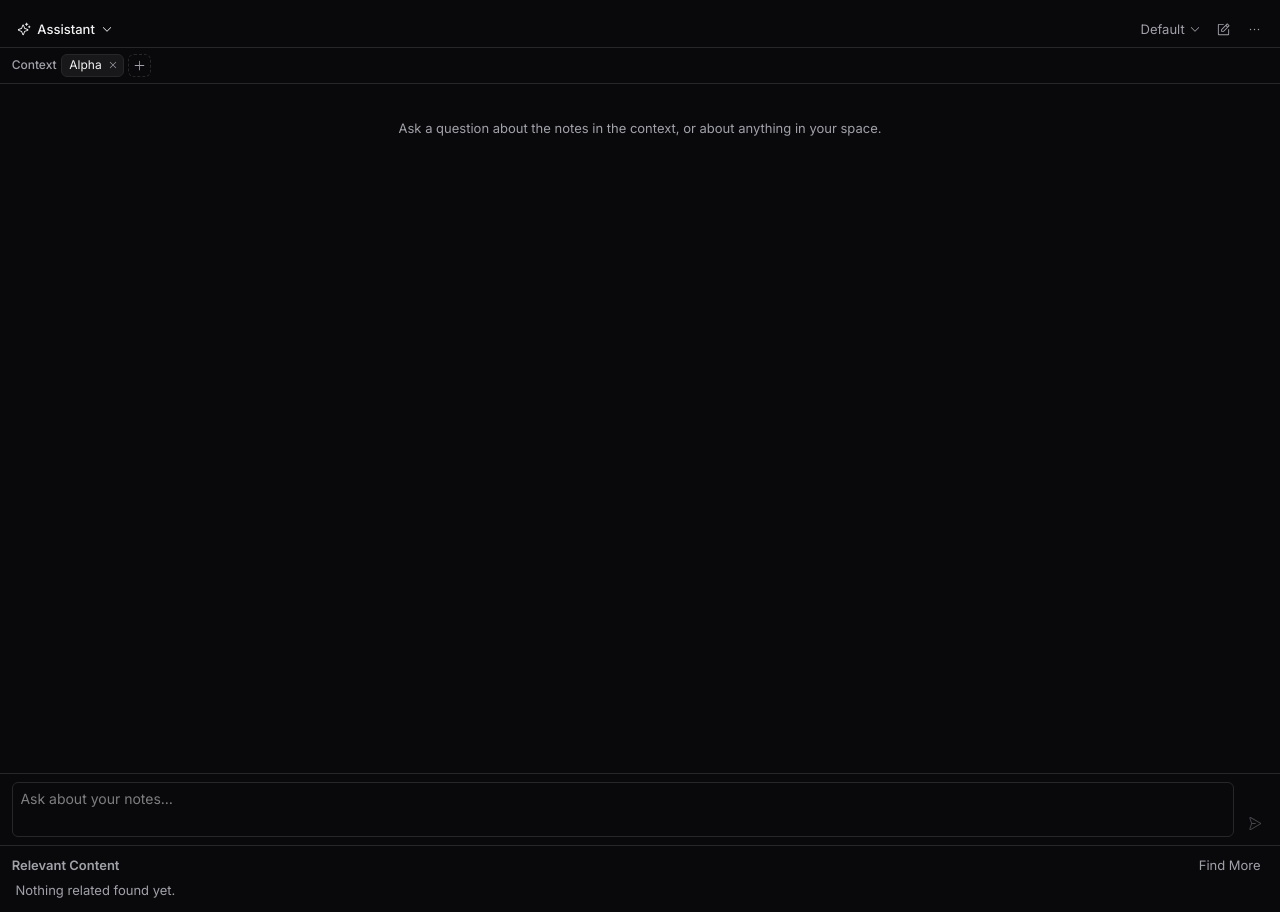
Test case: AiChatPanel › test streaming shows the tools used, and Stop aborts
Type "Find it" into the text box named "Message" at (623, 809), box [12, 782, 1234, 837]
Then press Enter
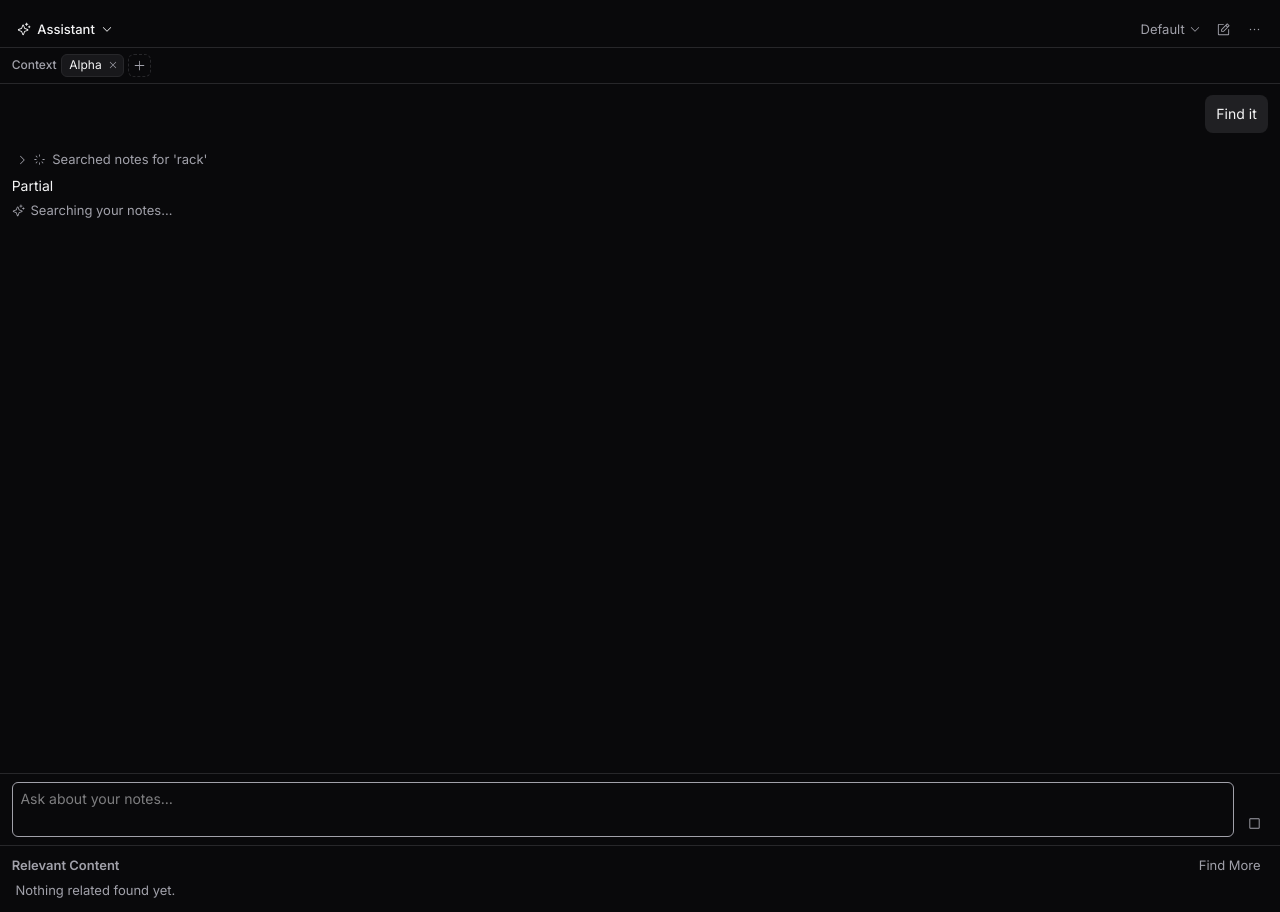
Now the text "Searching your notes…" is shown, box [12, 202, 172, 218]
Now the text "Partial" is shown, box [12, 177, 53, 194]
Click the button named "Stop" at (1255, 824), box [1241, 810, 1268, 837]
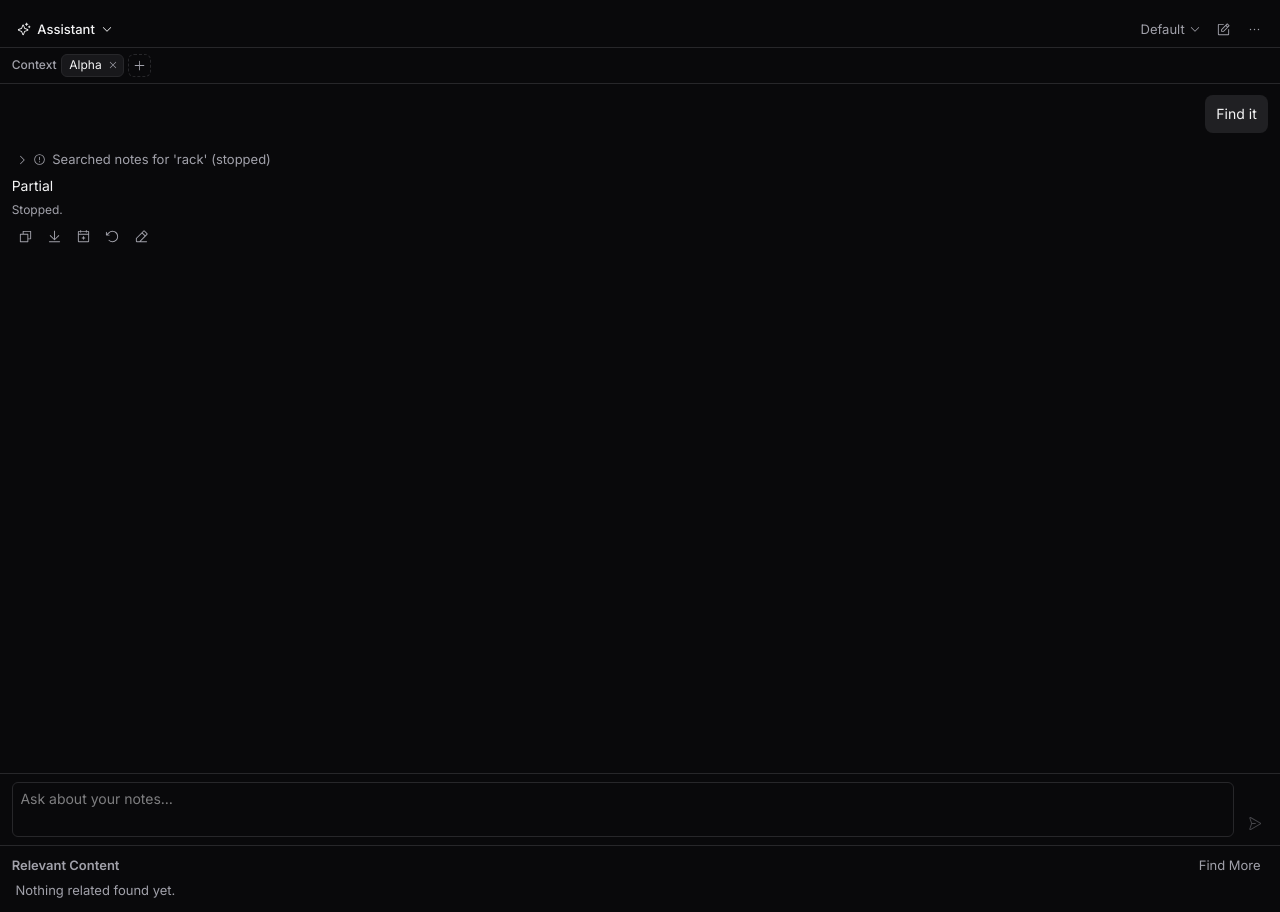
Now the text "Partial" is shown, box [12, 177, 53, 194]
Now the text "Stopped." is shown, box [12, 202, 63, 217]
Now the text "Searching your notes…" is gone
